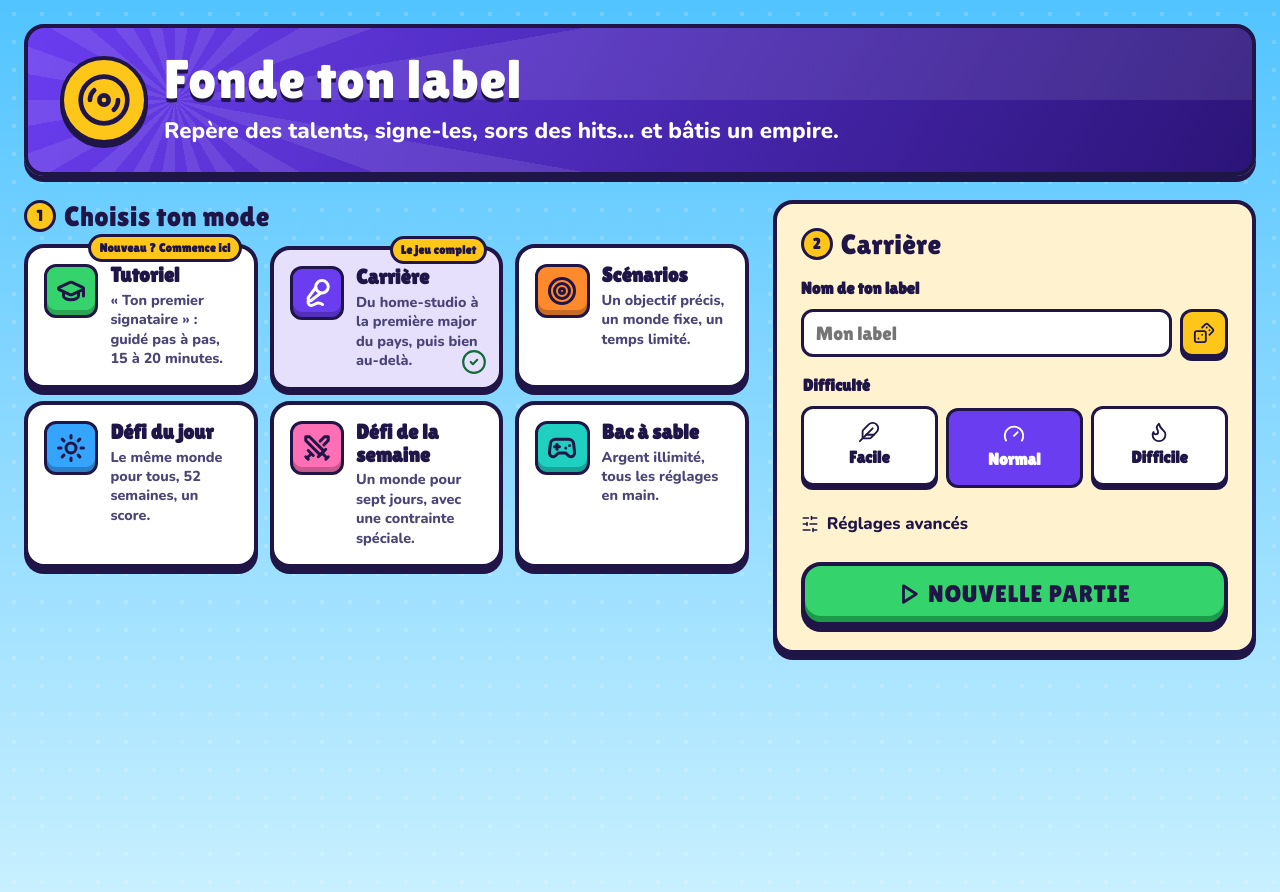
Test: écran Bâtiments › liste les cinq bâtiments
What coordinates should you click on to do the following:
click the button "Nouvelle partie"
I would click on:
 (1014, 594)
Its box is x1=801 y1=562 x2=1228 y2=626.
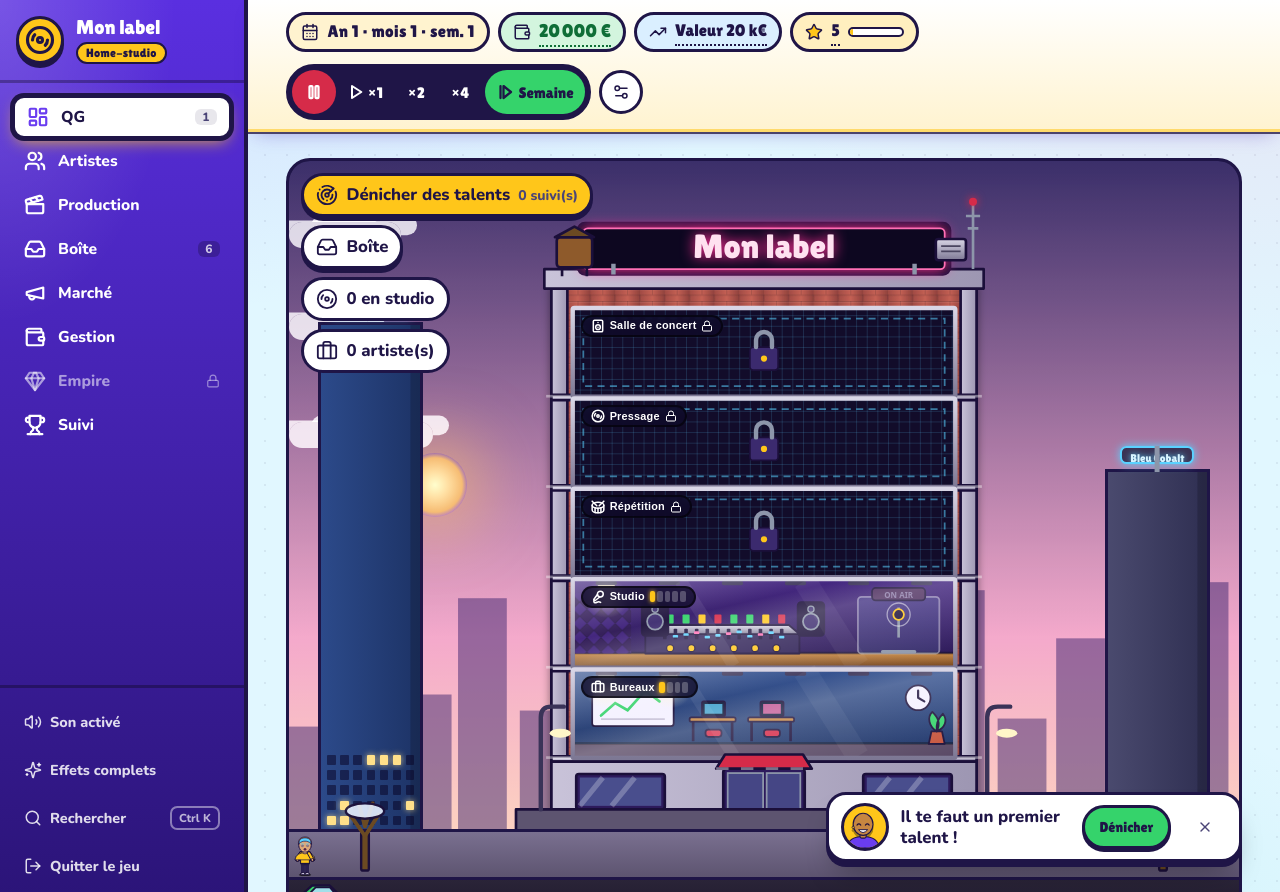
What coordinates should you click on to do the following:
click the button "Gestion"
I would click on:
 (122, 337)
Its box is x1=12 y1=315 x2=232 y2=359.
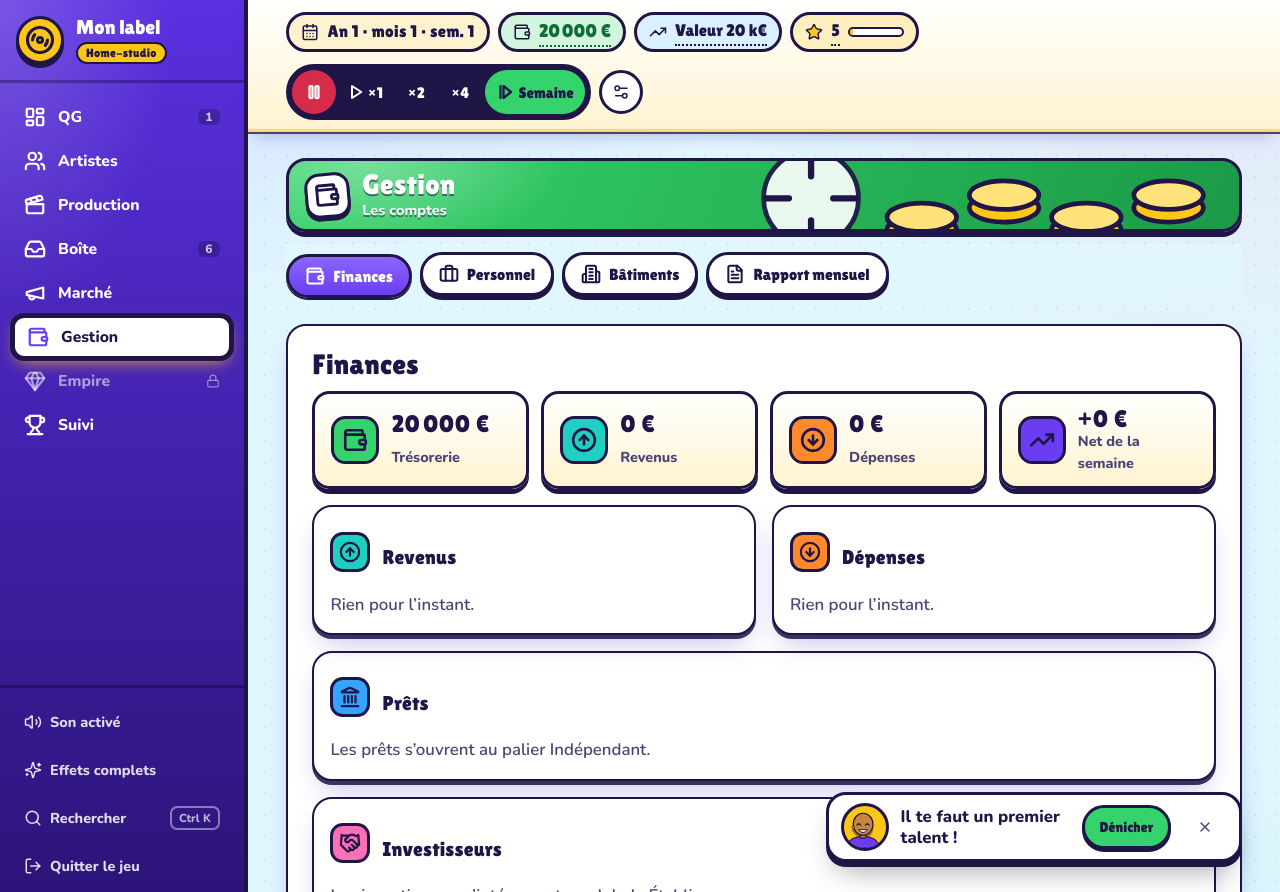
What coordinates should you click on to do the following:
click the tab "Bâtiments"
I would click on:
 (630, 274)
Its box is x1=562 y1=252 x2=698 y2=296.
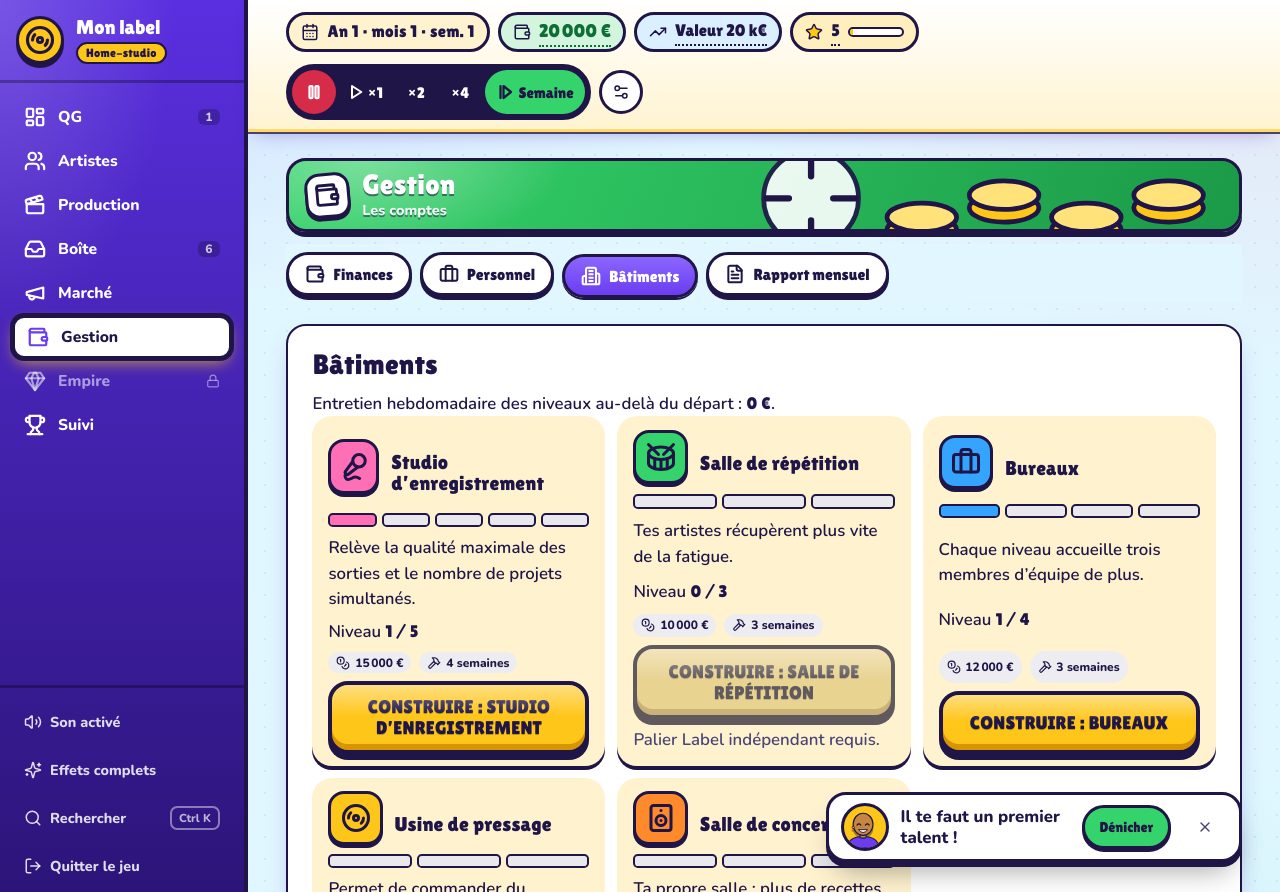
Now the heading "Bâtiments" is shown, box x1=312 y1=348 x2=438 y2=380
Now the number of elements with class "label-card" is 5
